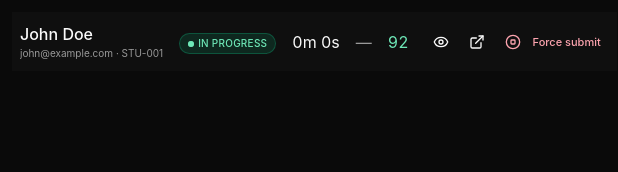
Test case: ParticipantRow navigation › navigates on candidate name click without triggering the drawer
What coordinates should you click on to do the following:
click the link "John Doe"
I would click on:
 (56, 34)
Its box is [20,22,93,46].
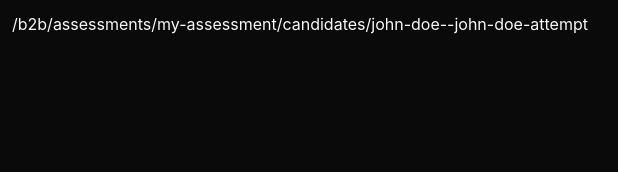
Now the text with test id "location" reads "/b2b/assessments/my-assessment/candidates/john-doe--john-doe-attempt", box [12,14,588,34]
